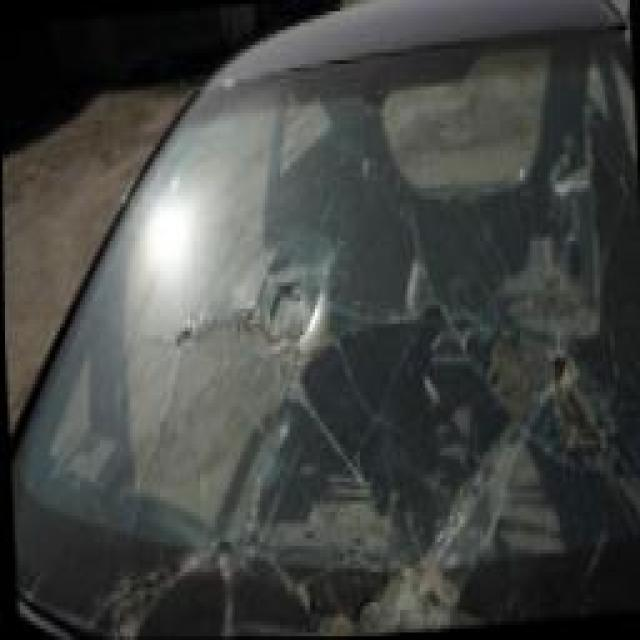Windshield: (0, 15, 640, 640)
